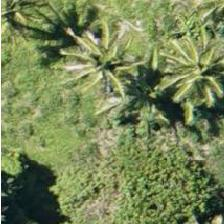Kelapa_Sawit: (62, 22, 152, 112), (150, 35, 224, 125), (0, 0, 47, 57)
